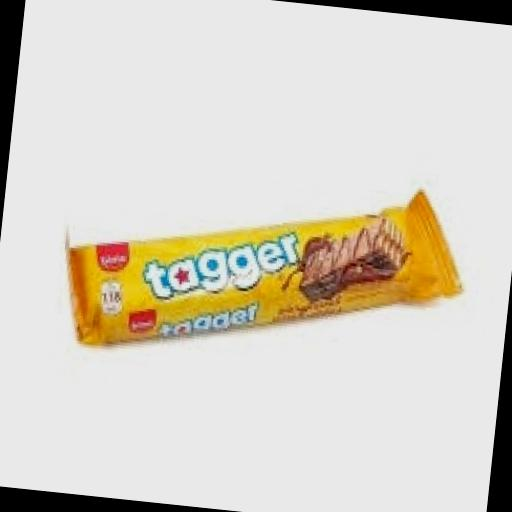tagger: (30, 126, 501, 431)
